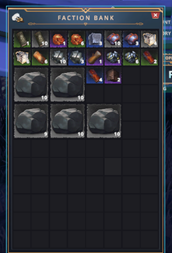ash log: (13, 29, 31, 48), (32, 30, 49, 48)
copper ore: (67, 30, 85, 49), (49, 30, 67, 48)
granite stone: (86, 30, 104, 48)
iron ore: (122, 30, 140, 47), (105, 30, 121, 48)
limestone stone: (141, 30, 157, 48), (14, 49, 31, 65)
oak log: (32, 49, 49, 66)
silver ore: (68, 48, 86, 66), (51, 49, 67, 65)
slate stone: (104, 67, 121, 84)
spruce log: (87, 48, 103, 66)
tin ore: (104, 49, 122, 66), (123, 48, 140, 66)
yew log: (86, 66, 103, 83), (142, 48, 158, 66)
